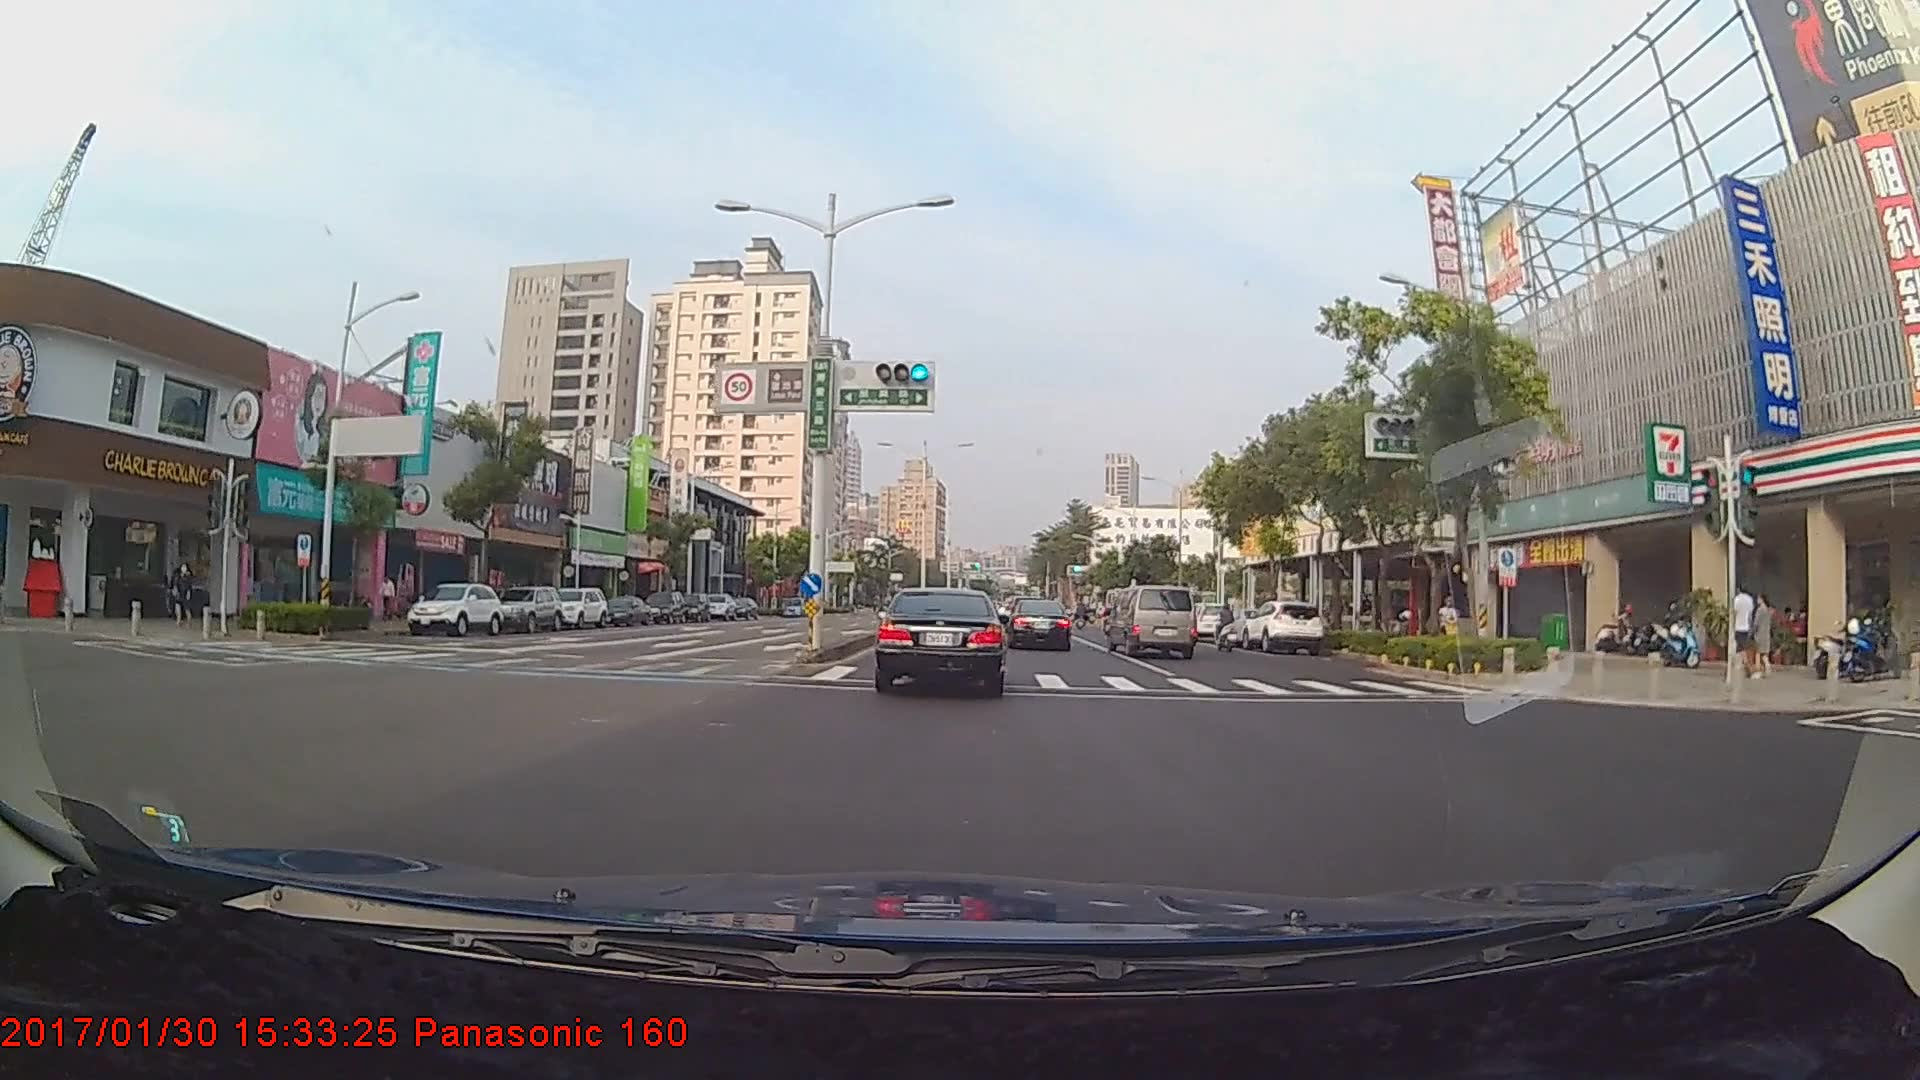pedestrian: (1730, 572, 1761, 678), (1750, 589, 1777, 675), (176, 553, 198, 623), (378, 573, 398, 621)
rider: (1211, 598, 1243, 652)
vehicle: (872, 585, 1005, 694), (1108, 584, 1196, 658), (403, 581, 505, 637), (1239, 596, 1326, 651), (1003, 598, 1072, 652), (490, 583, 562, 633), (546, 587, 609, 631), (642, 586, 687, 621), (603, 592, 650, 624)
